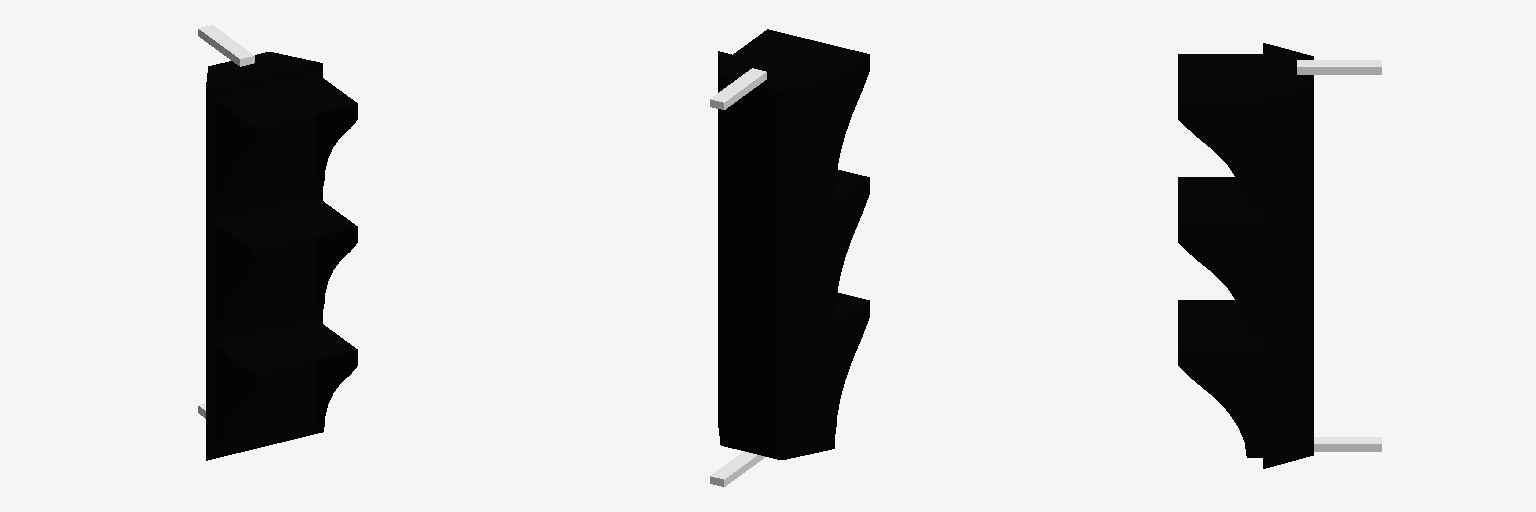
The model's file is TLS5_vertical.obj.
3 renders of one model, left to right at view 1: azimuth 30°, elevation 25°; view 2: azimuth 150°, elevation 25°; view 3: azimuth 270°, elevation 25°, orthographic.
Bounding box in the file's own units: 1 × 3.12 × 1.5.